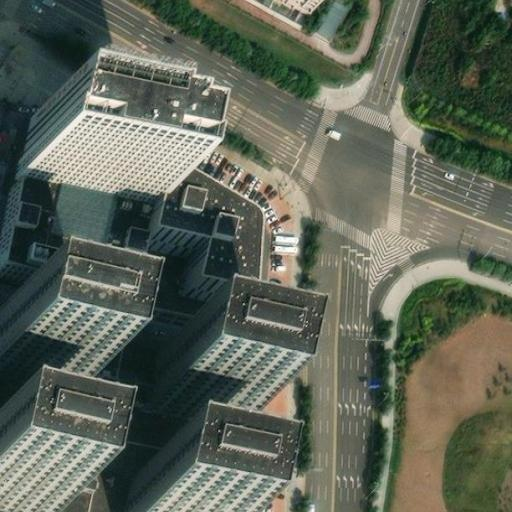building: (0, 330, 272, 512), (6, 152, 274, 318), (21, 98, 164, 190), (143, 170, 245, 297), (147, 345, 255, 425), (0, 307, 97, 393), (127, 471, 236, 512), (308, 0, 352, 44)
